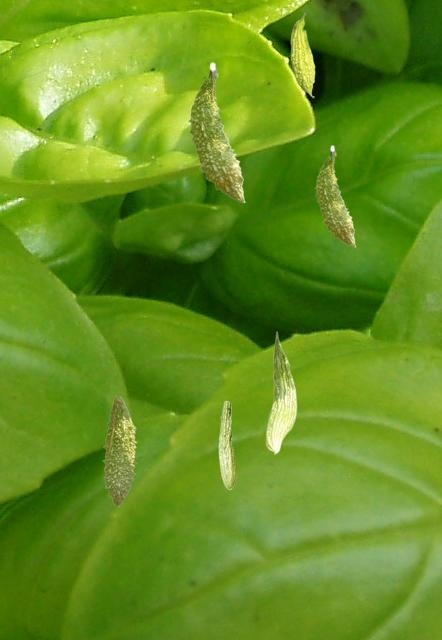ampalaya: (187, 62, 245, 203), (314, 145, 356, 247), (102, 395, 138, 507), (265, 331, 297, 455), (290, 12, 315, 98), (218, 400, 236, 490)
